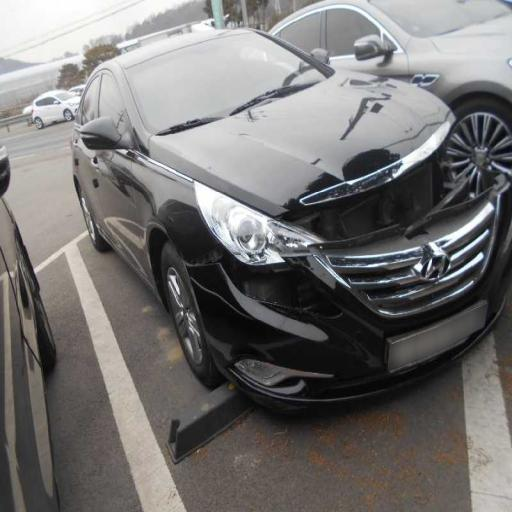broken: (328, 169, 512, 353)
